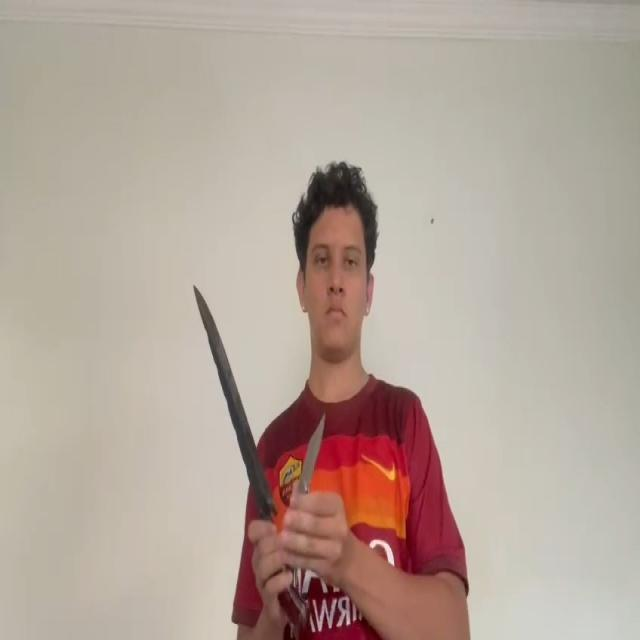knife: (193, 281, 275, 514), (297, 408, 327, 488)
